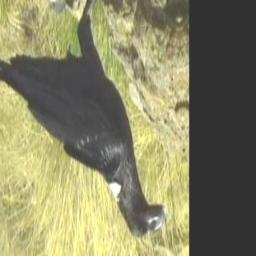Crow: (0, 0, 169, 256)
